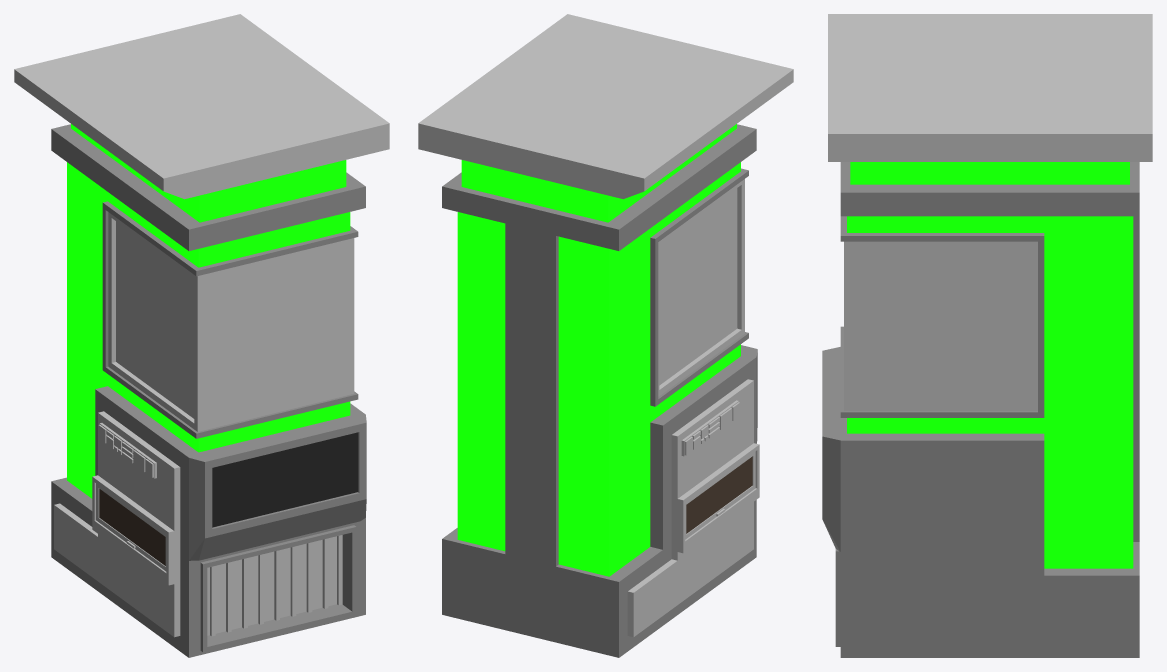
The model's file is Vending_Machine_01.FBX.
3 views of the same model, side by side, from view 1: azimuth 30°, elevation 25°; view 2: azimuth 150°, elevation 25°; view 3: azimuth 270°, elevation 25° (orthographic). The views are drawn at different scales.
Visible parts, largest first — view 1: Vending_Machine_01_LOD0, Vending_Machine_01_Door_LOD0; view 2: Vending_Machine_01_LOD0, Vending_Machine_01_Door_LOD0; view 3: Vending_Machine_01_LOD0.
Part boxes in pixels (x1,y1,x2,y2): Vending_Machine_01_LOD0: [14, 14, 389, 657]; Vending_Machine_01_Door_LOD0: [96, 483, 166, 571]; Vending_Machine_01_LOD0: [418, 14, 793, 657]; Vending_Machine_01_Door_LOD0: [685, 451, 755, 539]; Vending_Machine_01_LOD0: [822, 14, 1152, 657].
Size of what is drawn, in the model's own units: 61.33 by 127 by 71.36.
